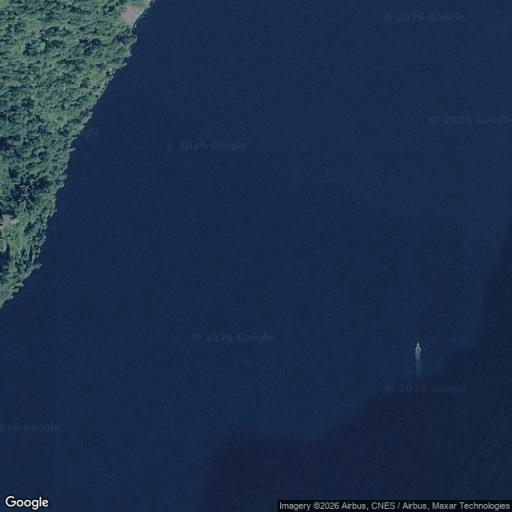ship: (414, 341, 423, 377)
